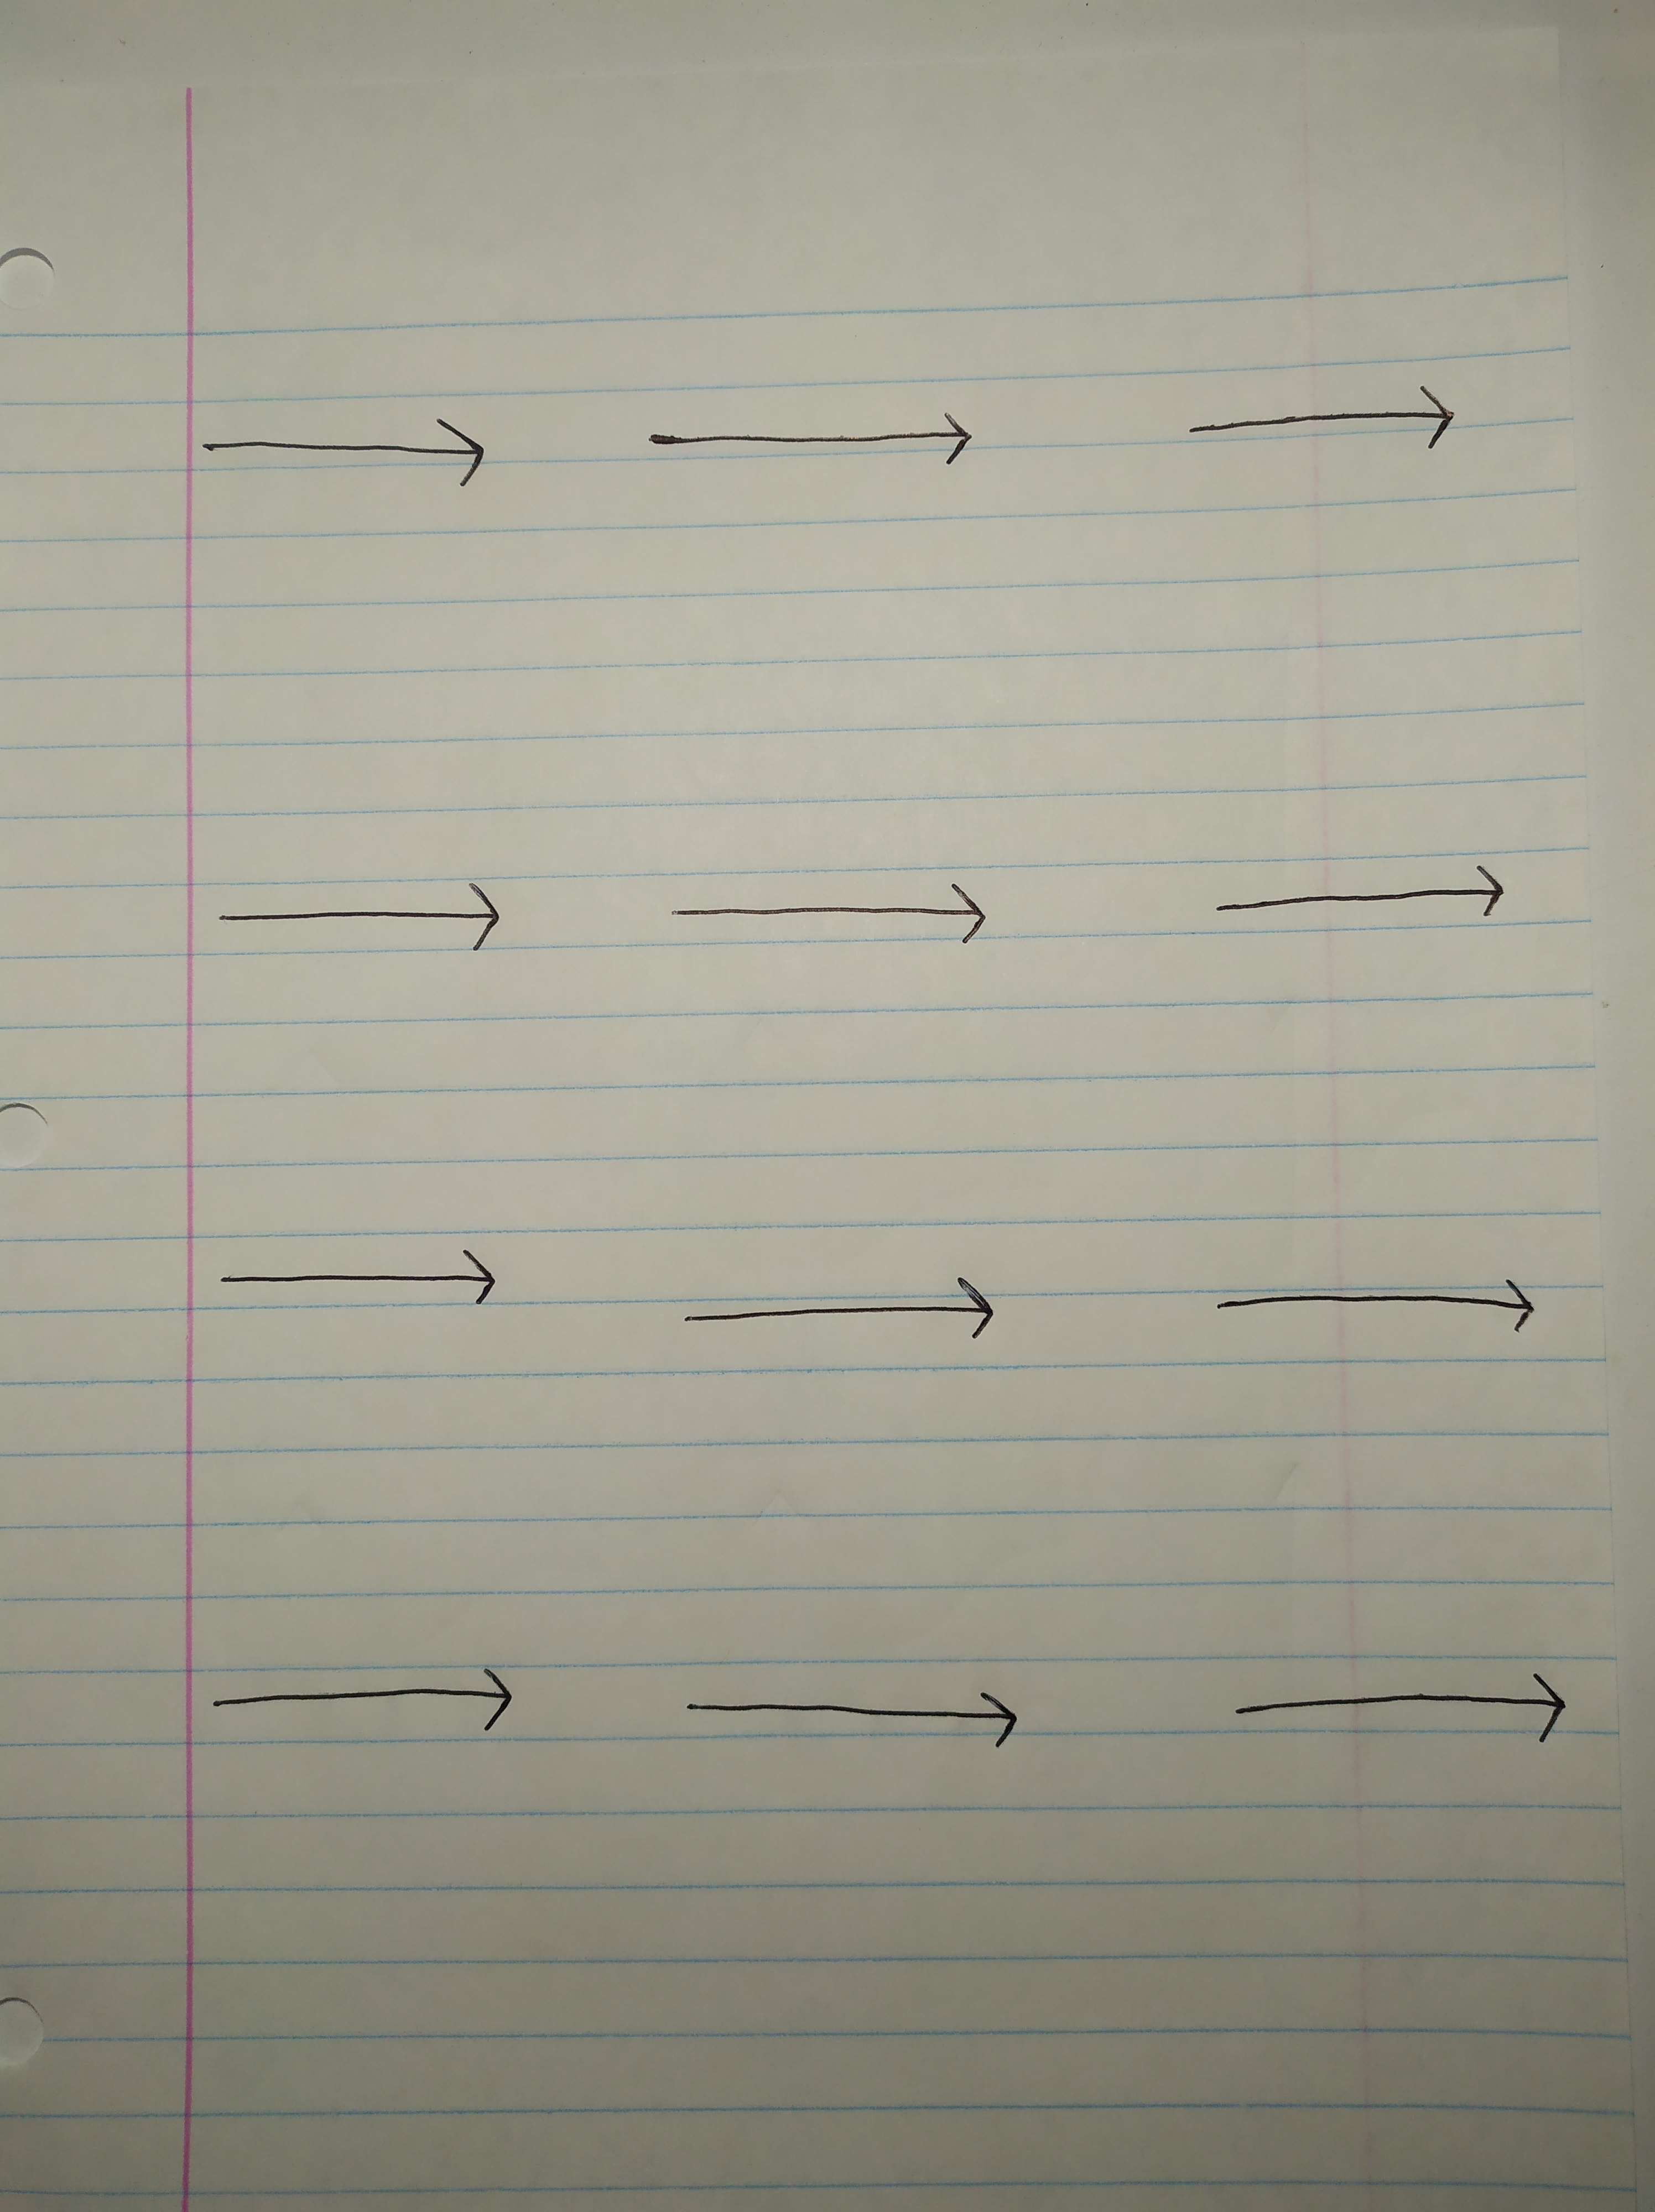arrow_line_right: (661, 1239, 1015, 1374), (183, 864, 544, 989), (640, 1659, 1050, 1765), (1205, 1654, 1582, 1769), (615, 396, 1022, 500), (1172, 360, 1488, 487), (181, 389, 520, 507), (1179, 1258, 1559, 1362), (633, 860, 1000, 968), (1175, 848, 1512, 964), (200, 1656, 539, 1748), (183, 1239, 528, 1324)
